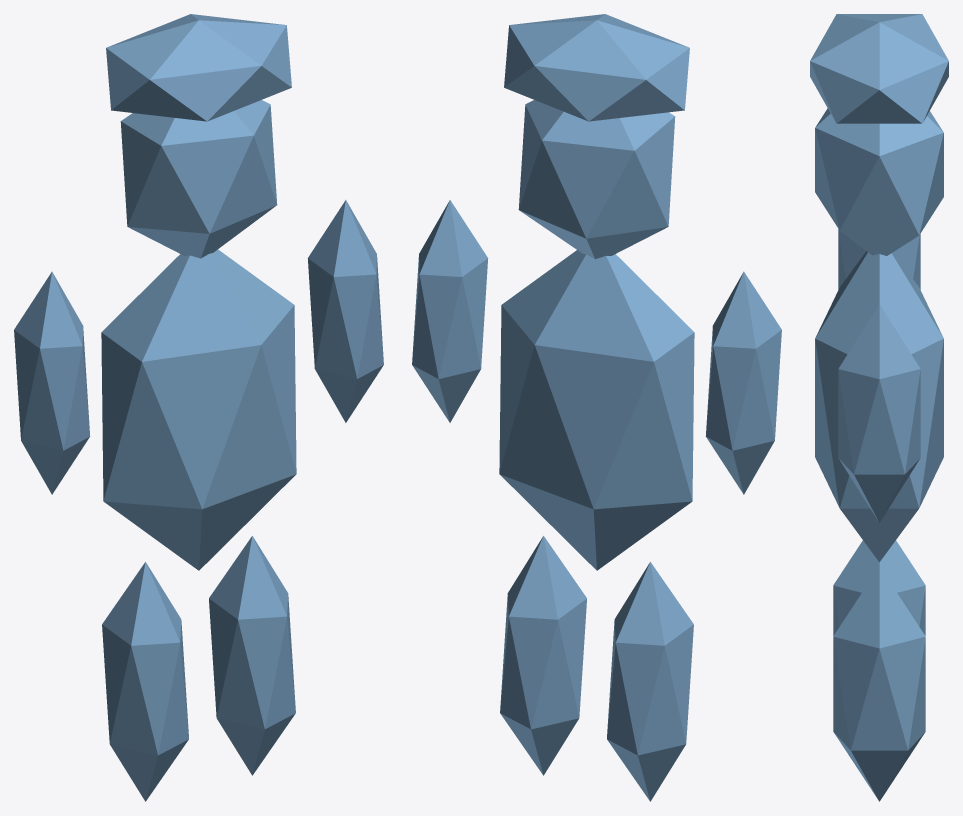
3 renders of one model, left to right at view 1: azimuth 30°, elevation 25°; view 2: azimuth 150°, elevation 25°; view 3: azimuth 270°, elevation 25°, orthographic.
Visible parts, largest first — view 1: Body, HeadMesh, Hair, LegMesh.L, LegMesh.R, ArmMesh.R, ArmMesh.L; view 2: Body, HeadMesh, Hair, LegMesh.L, LegMesh.R, ArmMesh.R, ArmMesh.L; view 3: Body, LegMesh.L, HeadMesh, Hair, ArmMesh.L, LegMesh.R, ArmMesh.R.
Part boxes in pixels (x1,y1,x2,y2): Body: (101, 249, 296, 570); HeadMesh: (120, 100, 277, 258); Hair: (106, 14, 291, 121); LegMesh.L: (209, 536, 295, 775); LegMesh.R: (102, 562, 188, 801); ArmMesh.R: (14, 271, 90, 494); ArmMesh.L: (307, 200, 383, 422); Body: (499, 250, 694, 570); HeadMesh: (518, 100, 675, 259); Hair: (504, 14, 689, 121); LegMesh.L: (500, 536, 586, 775); LegMesh.R: (607, 562, 693, 801); ArmMesh.R: (705, 271, 781, 494); ArmMesh.L: (412, 200, 488, 422); Body: (815, 251, 943, 562); LegMesh.L: (833, 566, 925, 801); HeadMesh: (815, 108, 943, 255); Hair: (810, 14, 948, 123); ArmMesh.L: (838, 304, 920, 522); LegMesh.R: (833, 540, 925, 635); ArmMesh.R: (838, 229, 920, 289).
Bounding box in the file's own units: 1.33 × 2.75 × 0.4593.
